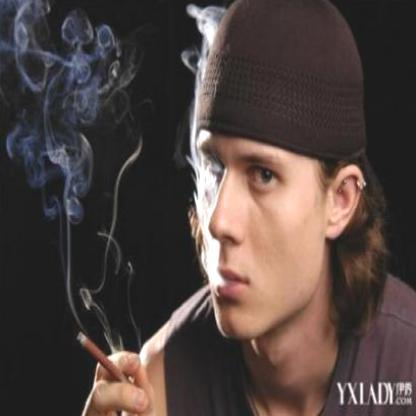cigarette: (76, 331, 124, 381)
person: (142, 0, 416, 415)
smoke: (4, 0, 116, 201)
